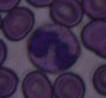N: (28, 25, 78, 73)
